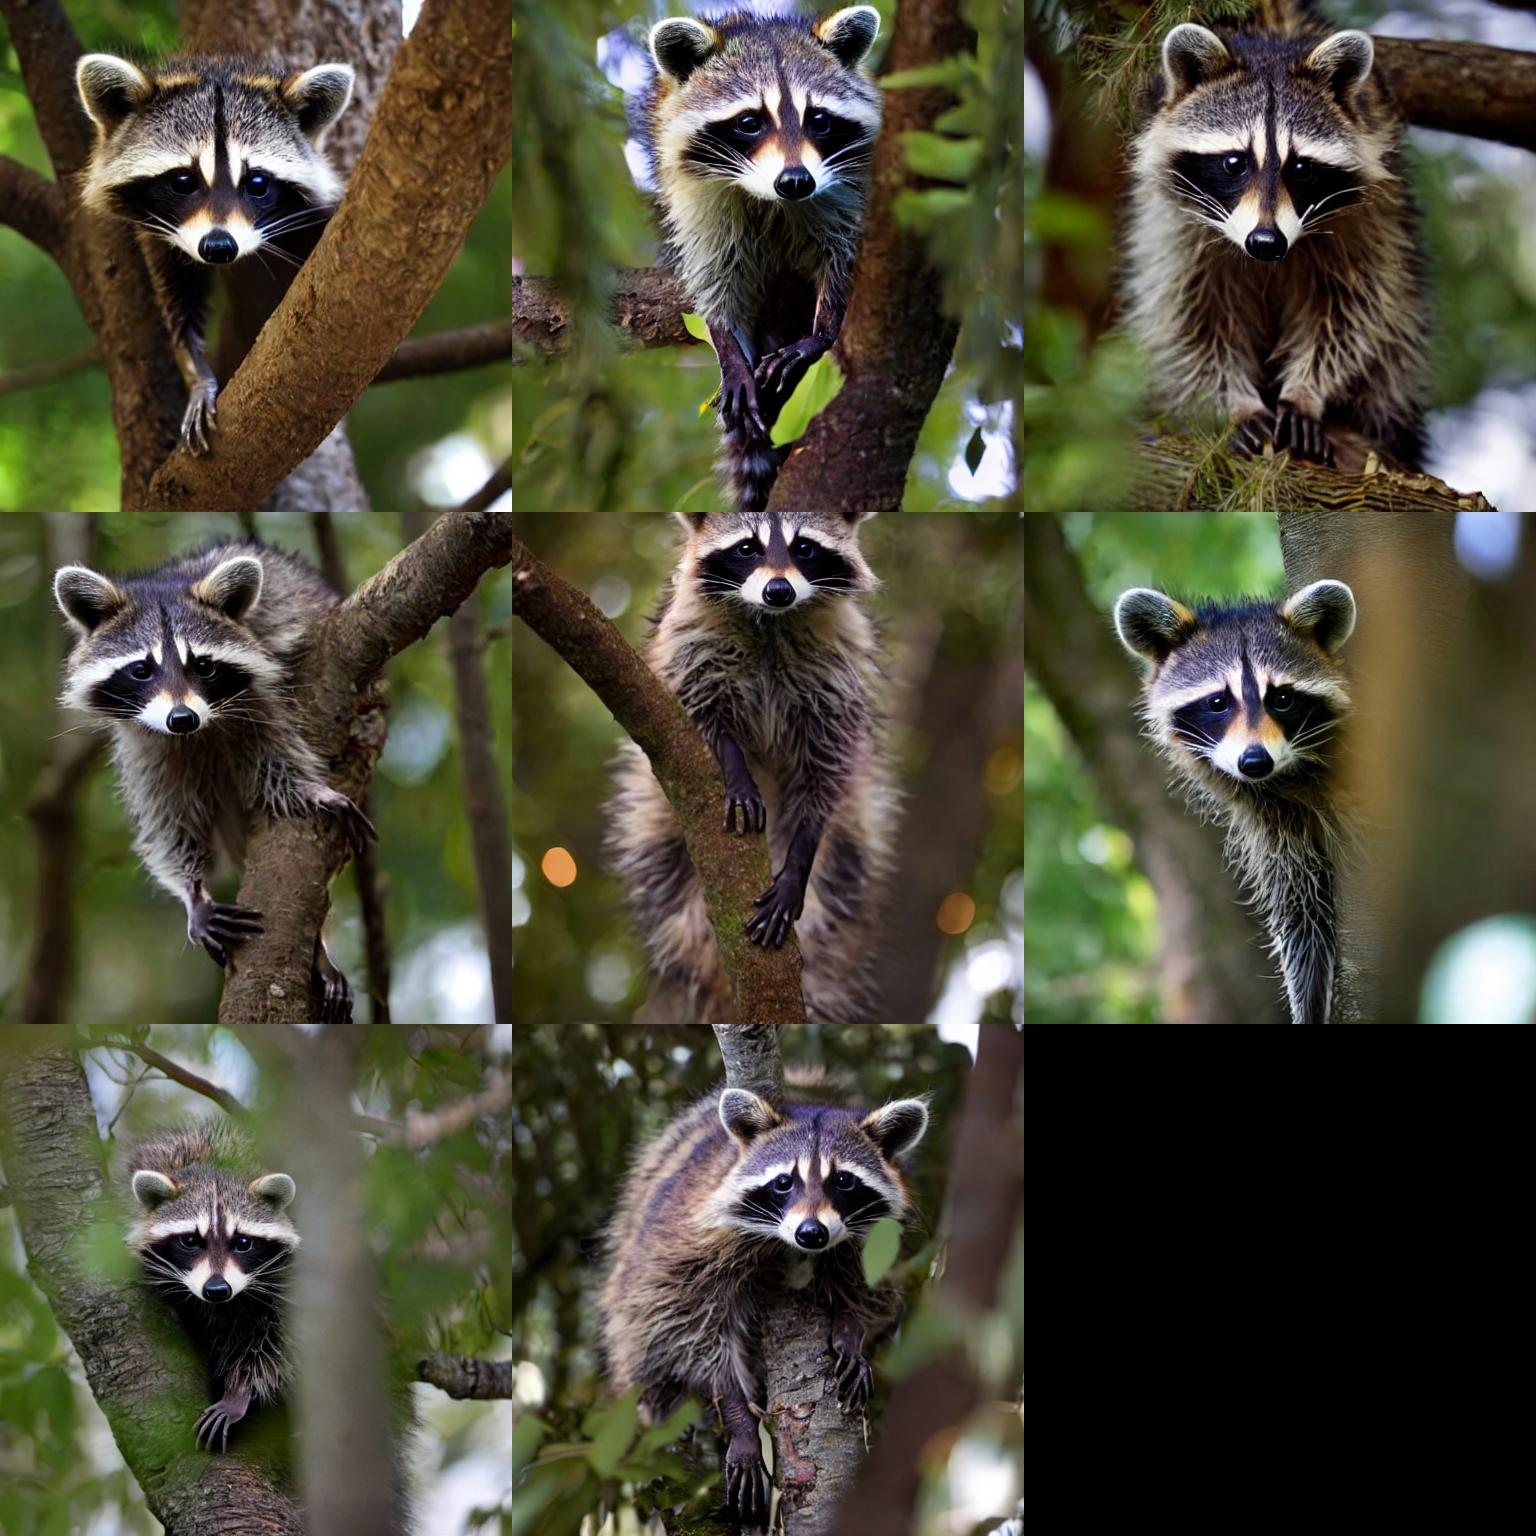raccoon: (1110, 10, 1445, 428), (612, 515, 890, 993), (582, 1080, 942, 1432), (42, 530, 373, 850), (60, 32, 367, 370), (1103, 575, 1360, 962), (640, 3, 897, 353), (107, 1107, 312, 1350)
